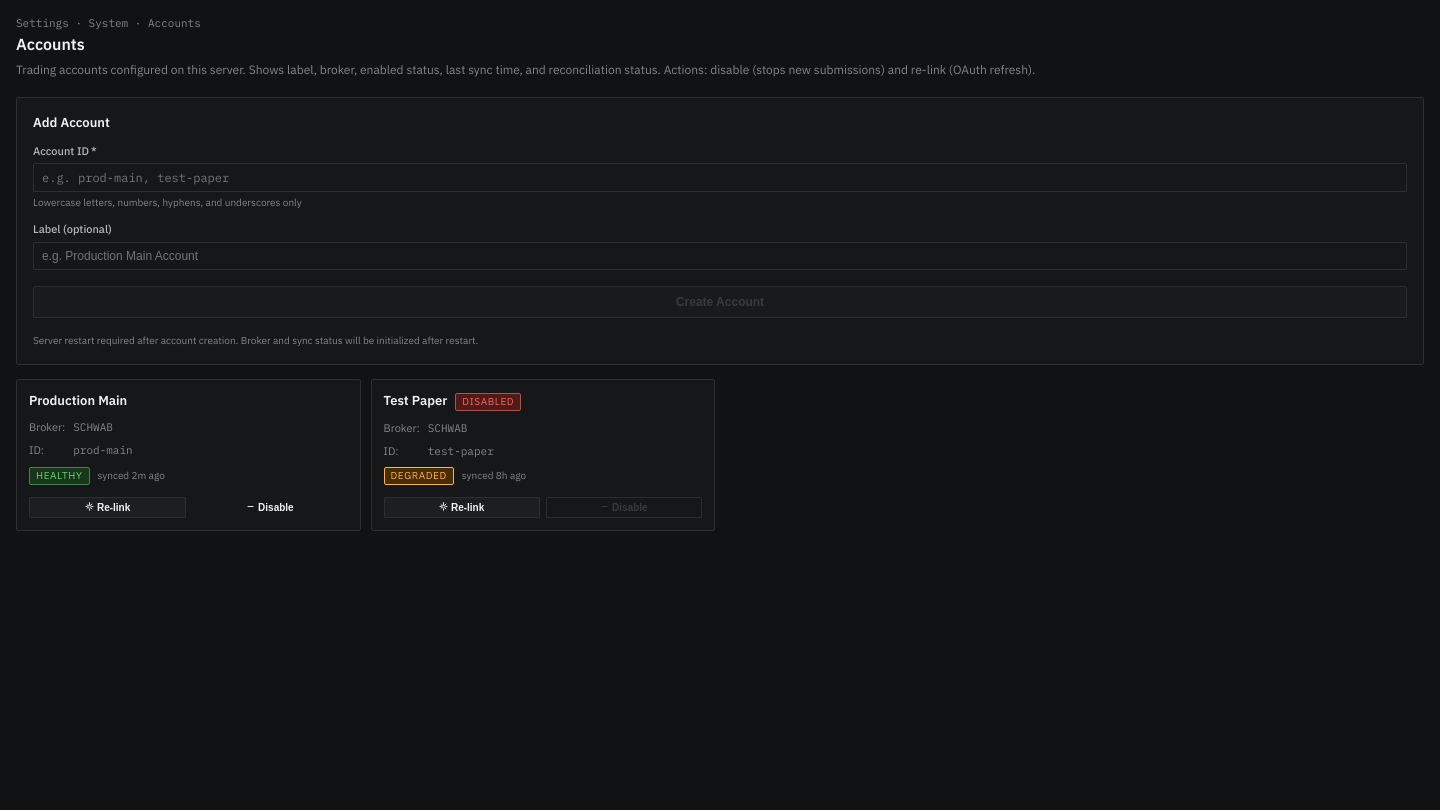
Test: AccountsScreen › AddAccountForm › displays server error inline when duplicate id
The image size is (1440, 810).
Check: the text "Add Account" is shown, box top-left (33, 114), bottom-right (110, 131)
Type "prod-main" into the field with placeholder "e.g. prod-main, test-paper" at (720, 178), box top-left (33, 163), bottom-right (1407, 192)
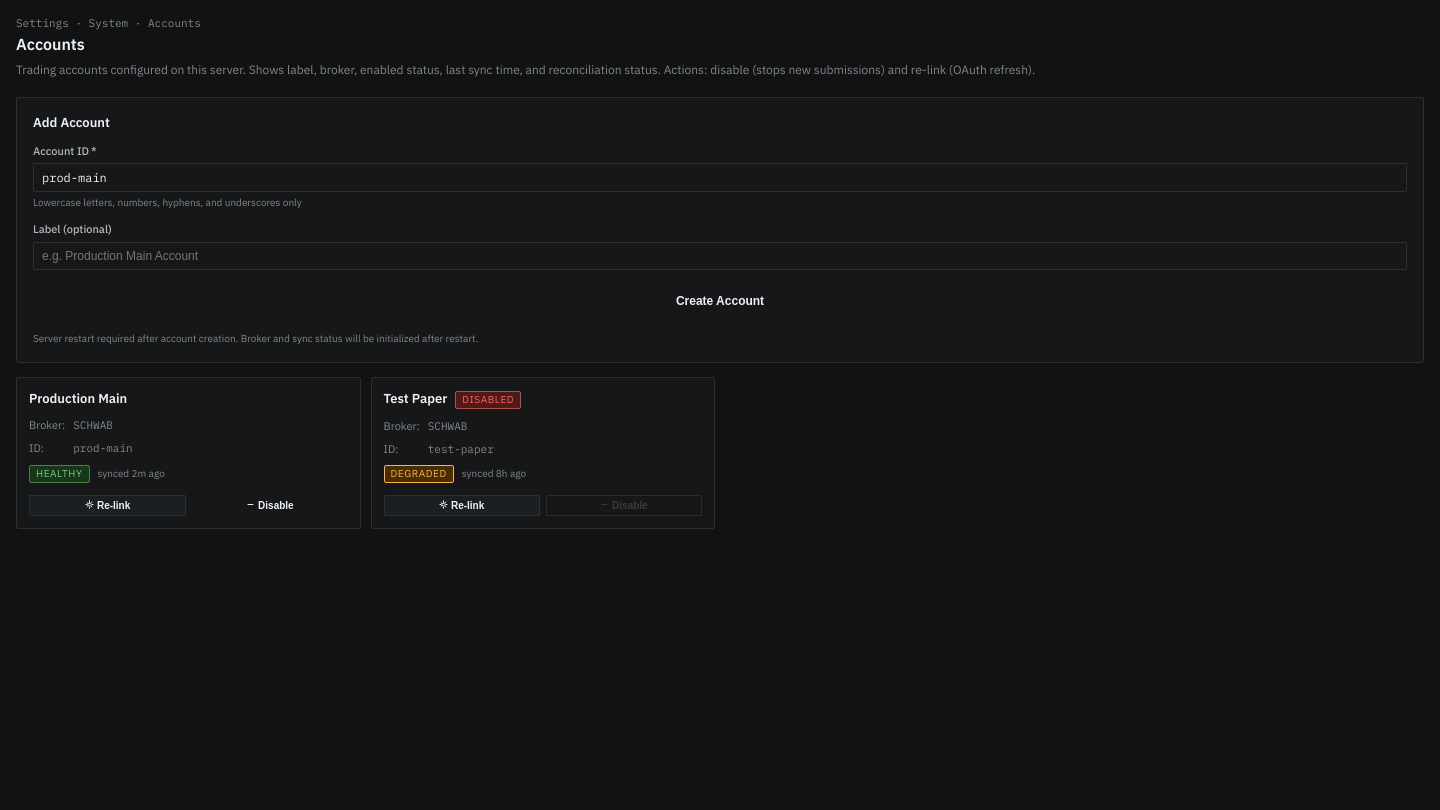
Click the button "Create Account" at (720, 300), box top-left (33, 286), bottom-right (1407, 316)
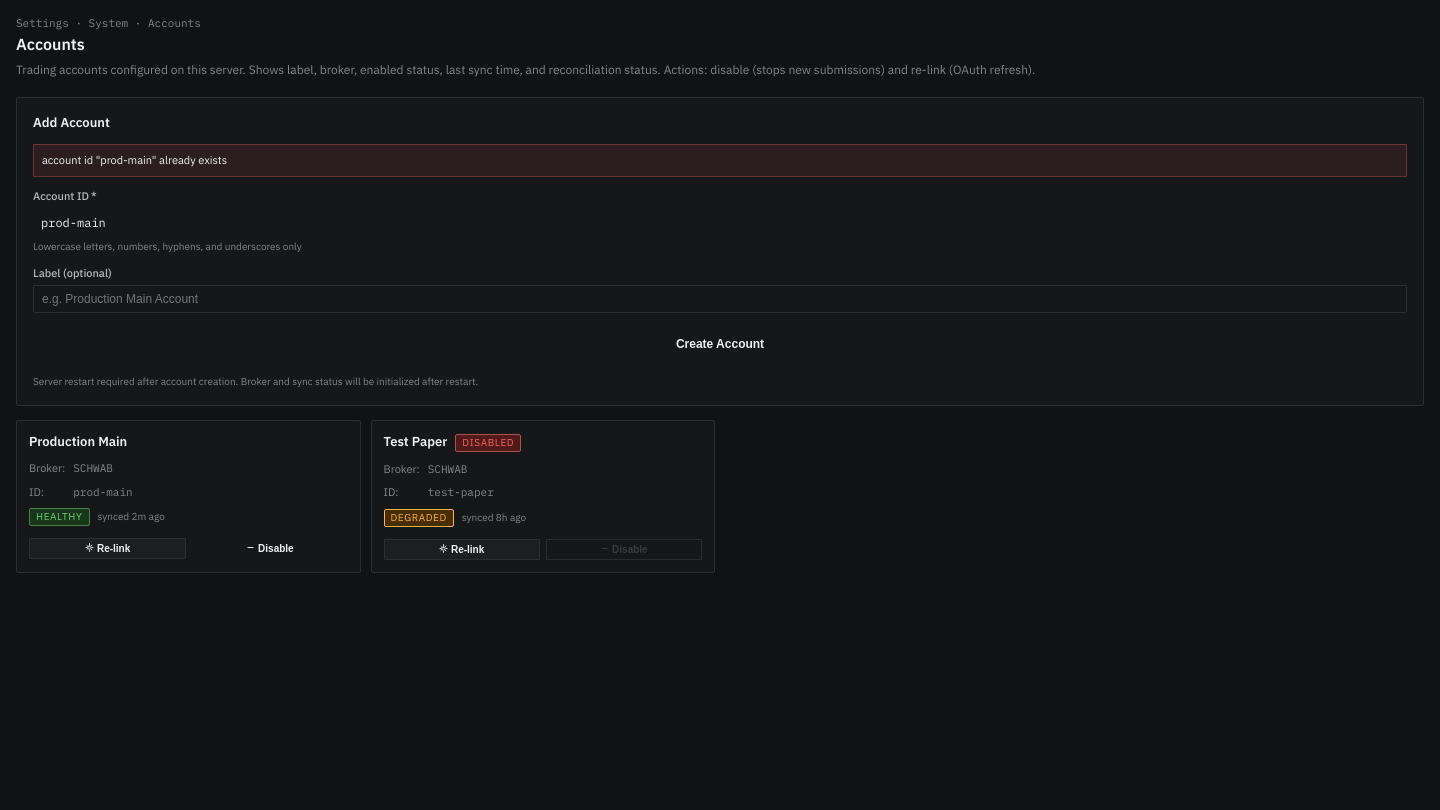
Check: the text "account id \"prod-main\" already exists" is shown, box top-left (33, 144), bottom-right (1407, 177)
